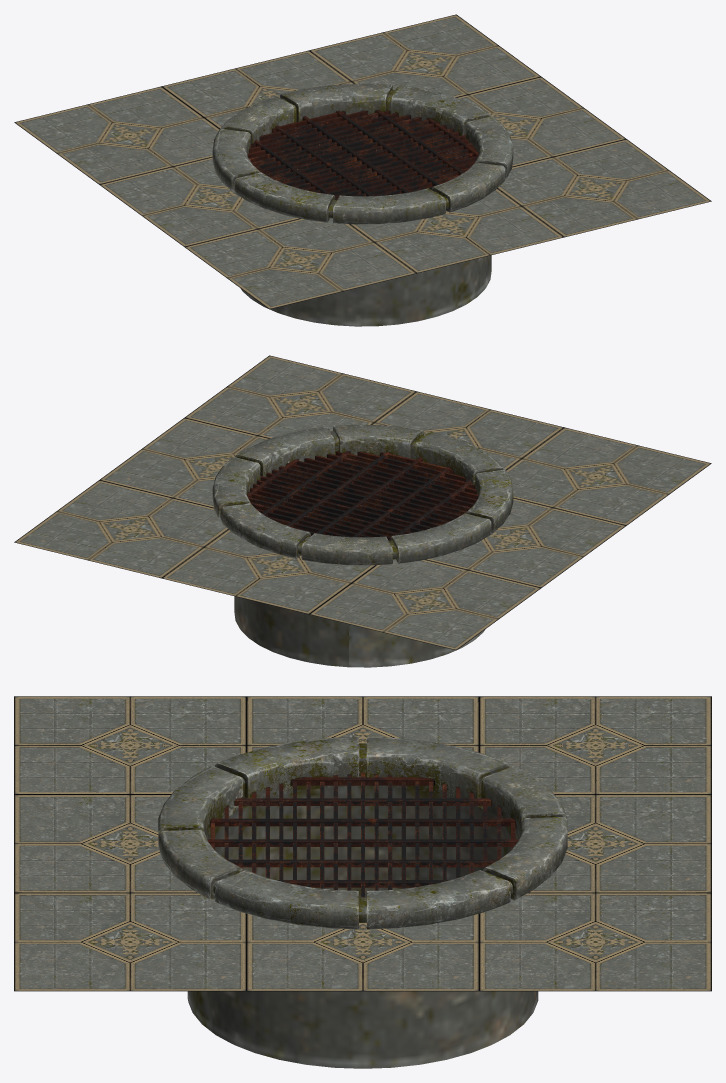
The model's file is SM_Kit_Tile_Floor_Stone_Well_A.fbx.
3 views of the same model, one above another, from view 1: azimuth 30°, elevation 25°; view 2: azimuth 150°, elevation 25°; view 3: azimuth 270°, elevation 25° (orthographic). The views are drawn at different scales.
Visible parts, largest first — view 1: SM_Kit_Tile_Floor_Stone_Well_A_LOD0; view 2: SM_Kit_Tile_Floor_Stone_Well_A_LOD0; view 3: SM_Kit_Tile_Floor_Stone_Well_A_LOD0.
Boxes of the visible parts, x1,y1,x2,y2 form: SM_Kit_Tile_Floor_Stone_Well_A_LOD0: [14, 14, 711, 326]; SM_Kit_Tile_Floor_Stone_Well_A_LOD0: [14, 355, 711, 667]; SM_Kit_Tile_Floor_Stone_Well_A_LOD0: [14, 696, 711, 1068].
Size of the model in its own units: 1200 by 1200 by 327.
2 materials, 2 textured.
